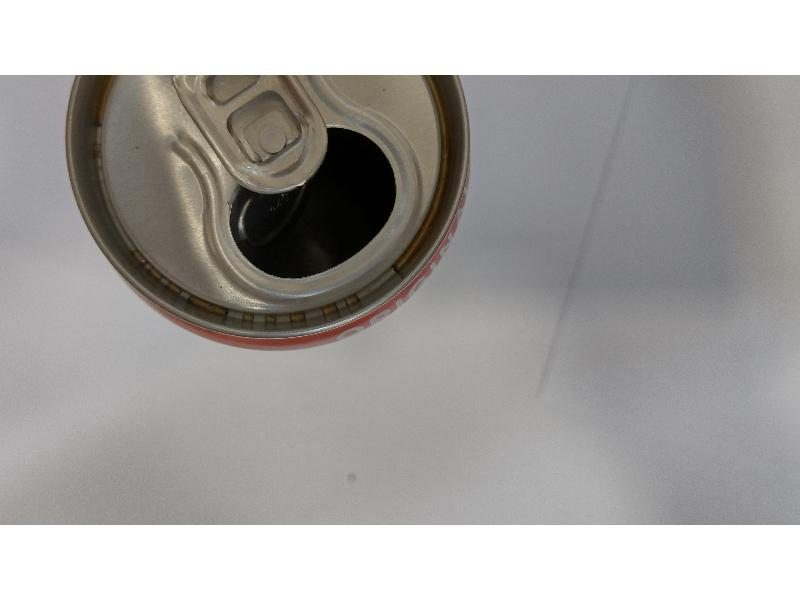can: (55, 73, 494, 364)
